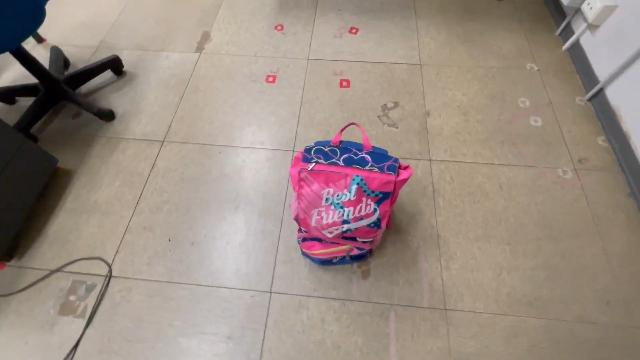Backpack: (282, 118, 418, 272)
